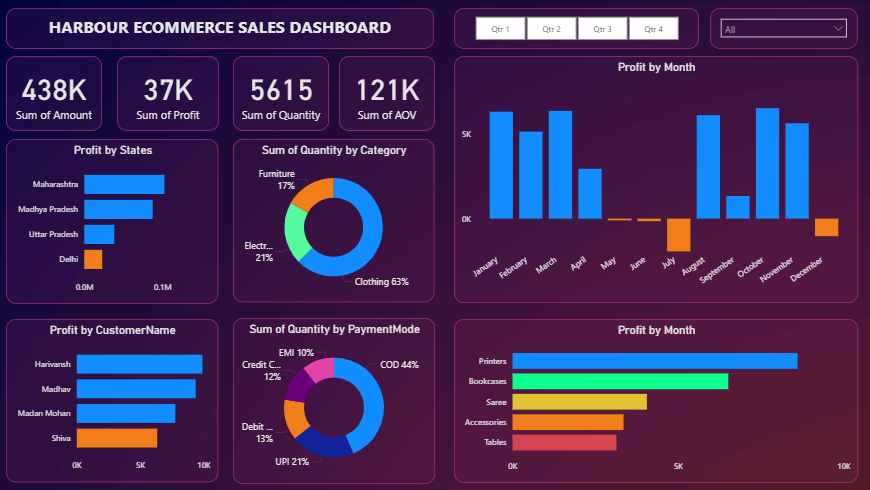

This screenshot's page, from the dashboard's own definition file:
{"tool":"powerbi","page":{"name":"Page 1","canvas":[1280,720],"ordinal":0},"visuals":[{"type":"textbox","box":[10.3,11.8,628.9,60.2],"z":0},{"type":"columnChart","title":" Profit by Month","fields":{"Y":["Sum(Details.Profit)"],"Category":["Orders.Order Date.Variation.Date Hierarchy.Month"]},"box":[668.6,82.3,593.6,362.9],"z":1000},{"type":"barChart","title":" Profit by Sub-Category","fields":{"Category":["Details.Sub-Category"],"Y":["Sum(Details.Profit)"]},"box":[668.6,468.7,593.6,241],"z":2000},{"type":"donutChart","fields":{"Category":["Details.Category"],"Y":["Sum(Details.Quantity)"]},"box":[344.4,204.9,295.6,240.2],"z":3000},{"type":"donutChart","fields":{"Category":["Details.PaymentMode"],"Y":["Sum(Details.Quantity)"]},"box":[343.8,467.3,296.8,243.9],"z":4000},{"type":"card","fields":{"Values":["Sum(Details.Amount)"]},"box":[10.3,82.3,141.1,110.2],"z":5000},{"type":"card","fields":{"Values":["Sum(Details.Profit)"]},"box":[173.4,82.3,149.9,110.2],"z":6000},{"type":"card","fields":{"Values":["Sum(Details.Quantity)"]},"box":[343.8,82.3,141.1,110.2],"z":7000},{"type":"card","fields":{"Values":["Sum(Details.AOV)"]},"box":[499.6,82.3,141.1,110.2],"z":8000},{"type":"barChart","title":" Profit by States","fields":{"Category":["Orders.State"],"Y":["Sum(Details.Amount)"]},"box":[10.1,204.9,312.4,241.9],"z":9000},{"type":"barChart","title":" Profit by CustomerName","fields":{"Category":["Orders.CustomerName"],"Y":["Sum(Details.Amount)"]},"box":[10.3,468.7,311.5,239.5],"z":10000},{"type":"slicer","fields":{"Values":["Orders.Order Date.Variation.Date Hierarchy.Quarter"]},"box":[668.6,11.8,360,60.2],"z":11000},{"type":"slicer","fields":{"Values":["Orders.State"]},"box":[1044.7,11.8,217.5,60.2],"z":12000}]}

Visuals, with their boxes in screenshot pixels (x1, y1, x2, y2), scaled from the page's 1280x720 canvas onto the 870x490 screenshot:
textbox: {"x1": 7, "y1": 8, "x2": 434, "y2": 49}
" Profit by Month" columnChart: {"x1": 454, "y1": 56, "x2": 858, "y2": 303}
" Profit by Sub-Category" barChart: {"x1": 454, "y1": 319, "x2": 858, "y2": 483}
donutChart - Details.Category x Sum(Details.Quantity): {"x1": 234, "y1": 139, "x2": 435, "y2": 303}
donutChart - Details.PaymentMode x Sum(Details.Quantity): {"x1": 234, "y1": 318, "x2": 435, "y2": 484}
card - Sum(Details.Amount): {"x1": 7, "y1": 56, "x2": 103, "y2": 131}
card - Sum(Details.Profit): {"x1": 118, "y1": 56, "x2": 220, "y2": 131}
card - Sum(Details.Quantity): {"x1": 234, "y1": 56, "x2": 330, "y2": 131}
card - Sum(Details.AOV): {"x1": 340, "y1": 56, "x2": 435, "y2": 131}
" Profit by States" barChart: {"x1": 7, "y1": 139, "x2": 219, "y2": 304}
" Profit by CustomerName" barChart: {"x1": 7, "y1": 319, "x2": 219, "y2": 482}
slicer - Orders.Order Date.Variation.Date Hierarchy.Quarter: {"x1": 454, "y1": 8, "x2": 699, "y2": 49}
slicer - Orders.State: {"x1": 710, "y1": 8, "x2": 858, "y2": 49}
